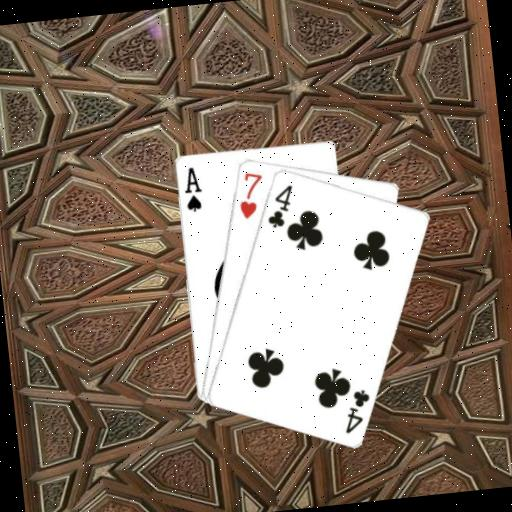4C: (337, 385, 374, 435), (261, 181, 298, 230)
7H: (233, 168, 268, 222)
AS: (178, 163, 205, 214)
